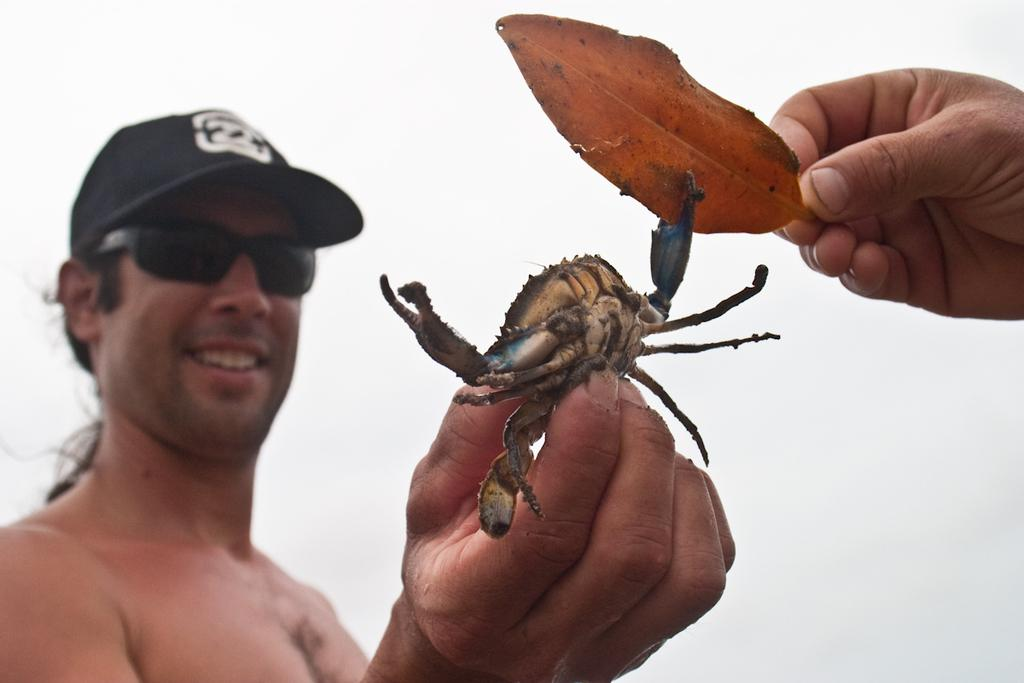Sem Máscara: (93, 179, 302, 450)
